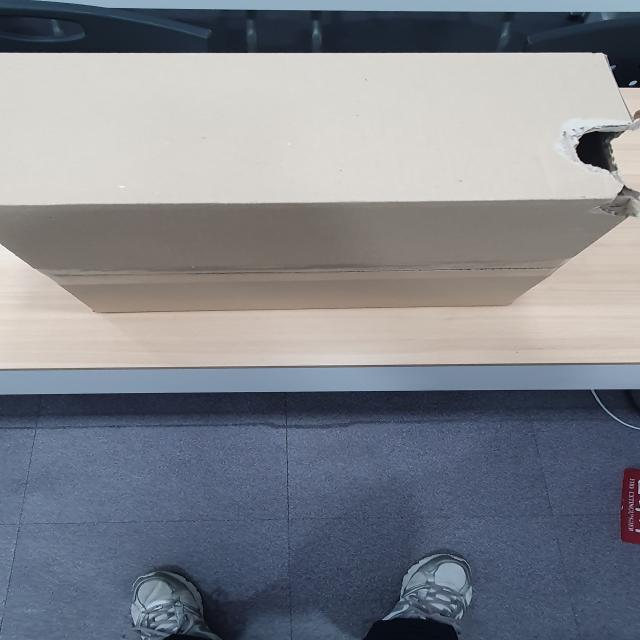hole: (564, 117, 640, 218)
